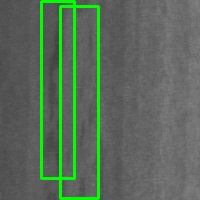inclusion: (60, 6, 98, 198), (41, 1, 74, 178)
